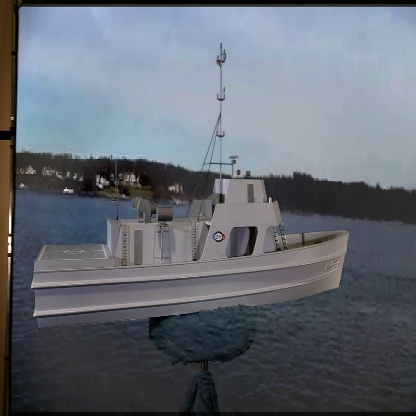YP689: (31, 39, 352, 331)
